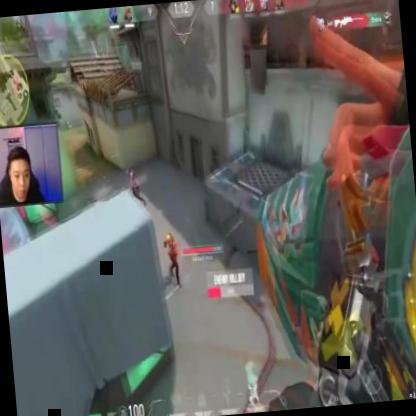enemy: (161, 230, 182, 290), (126, 166, 147, 208)
enemy_head: (166, 234, 172, 246), (130, 170, 134, 180)
